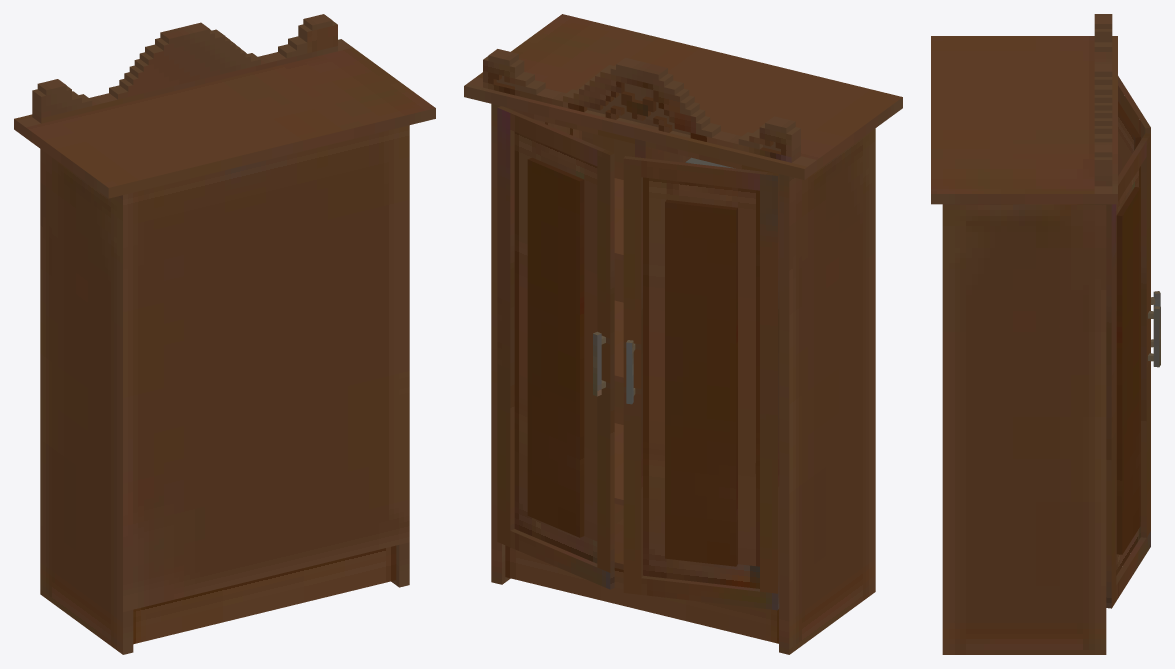
File: closet.glb
The picture shows the model from 3 angles, left to right: view 1: azimuth 30°, elevation 25°; view 2: azimuth 150°, elevation 25°; view 3: azimuth 270°, elevation 25°; orthographic projection. The views are drawn at different scales.
Visible parts, largest first — view 1: Closet-Local; view 2: Closet-Local; view 3: Closet-Local.
Part boxes in pixels (box(x1,y1,x2,y2)): Closet-Local: box(14, 14, 435, 654); Closet-Local: box(464, 14, 902, 654); Closet-Local: box(931, 14, 1160, 654).
Bounding box in the file's own units: 4.88 × 7.55 × 3.
Materials: 3 (3 with a texture image).
